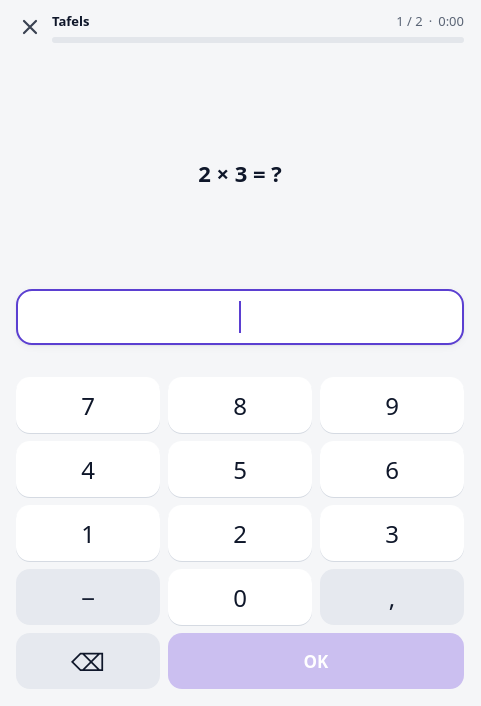
Test: PlayScreen › correct state › turns the field green with a check, dims the keypad and offers no Verder
The image size is (481, 706).
Click the button "6": (392, 469) [320, 441, 464, 497]
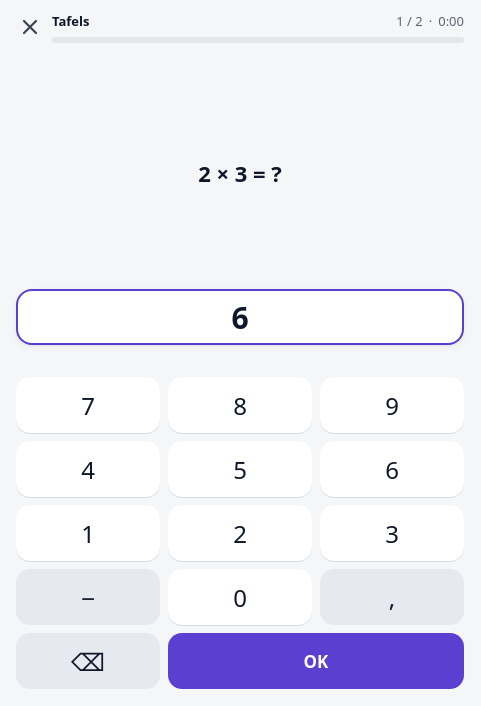
Click the button "OK": (316, 661) [168, 633, 464, 689]
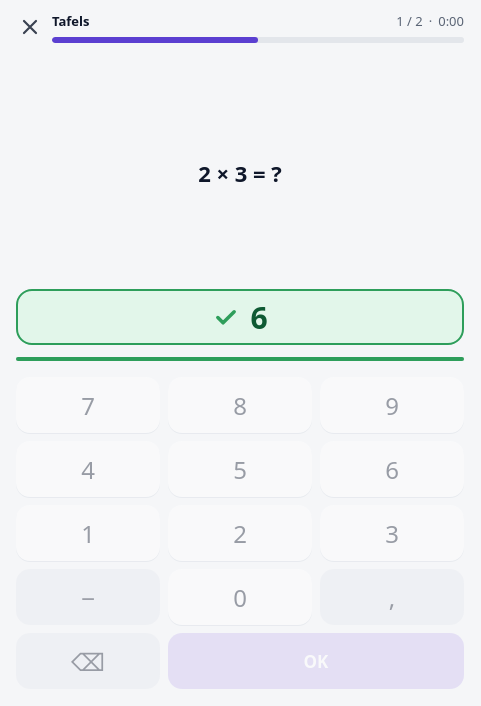
Expected: the icon below "2 × 3 = ?" is shown, [212, 303, 240, 331]
Expected: the button "7" is disabled, [16, 377, 160, 433]
Expected: the button "8" is disabled, [168, 377, 312, 433]
